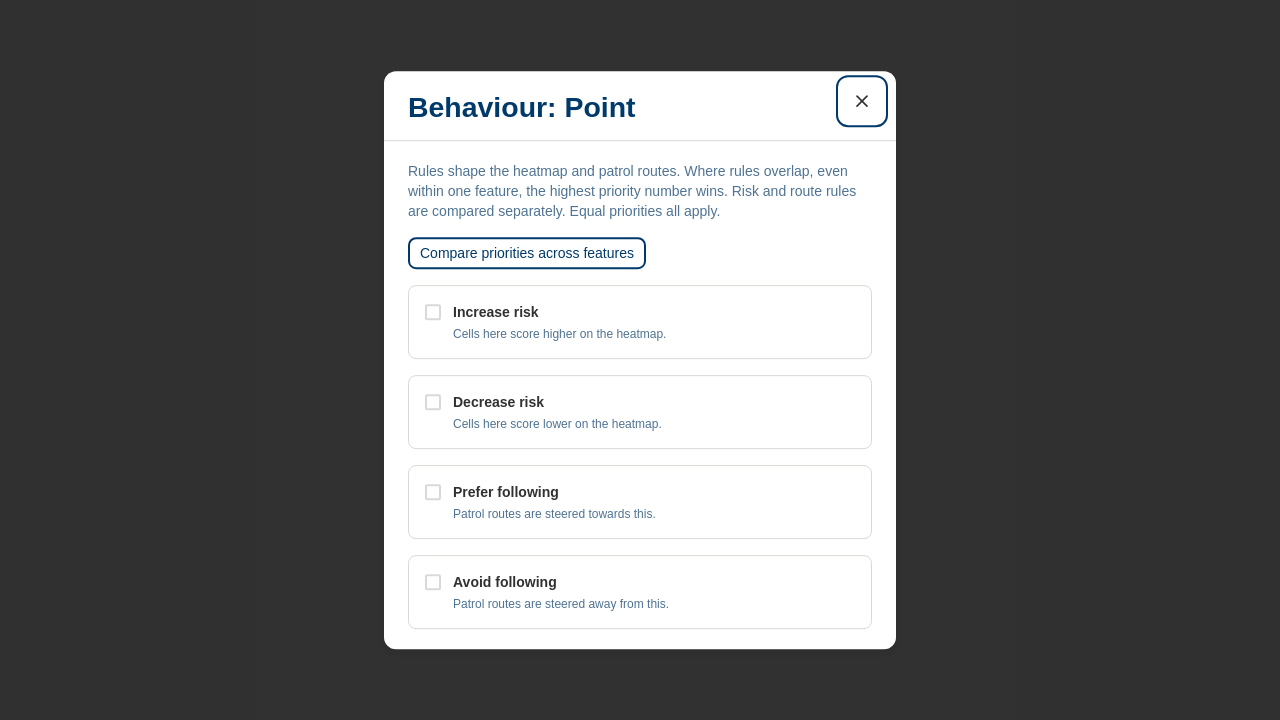
Test: RuleEditorDialog for a feature › opens the priority overview from inside the dialog
The width and height of the screenshot is (1280, 720).
Click the button "Compare priorities across features". click: x=527, y=253
box: [408,237,646,269]
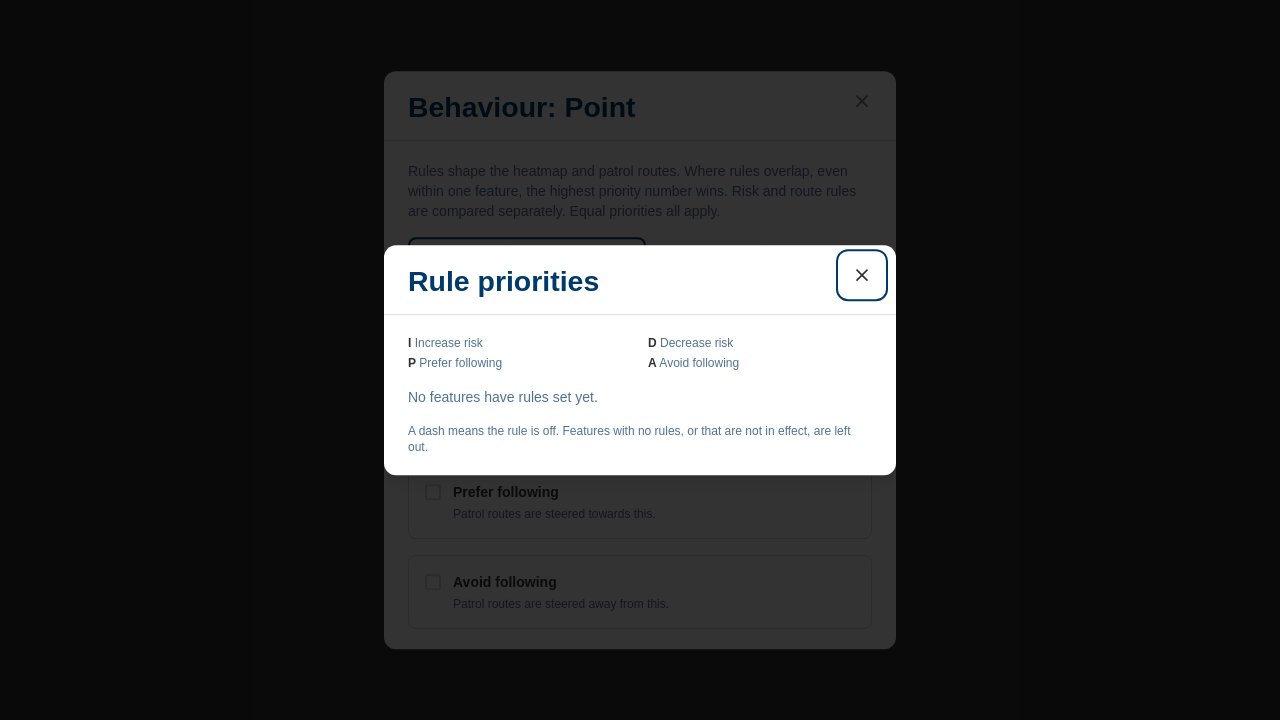
Expected: the dialog "Rule priorities" is shown, [384,245,896,475]
